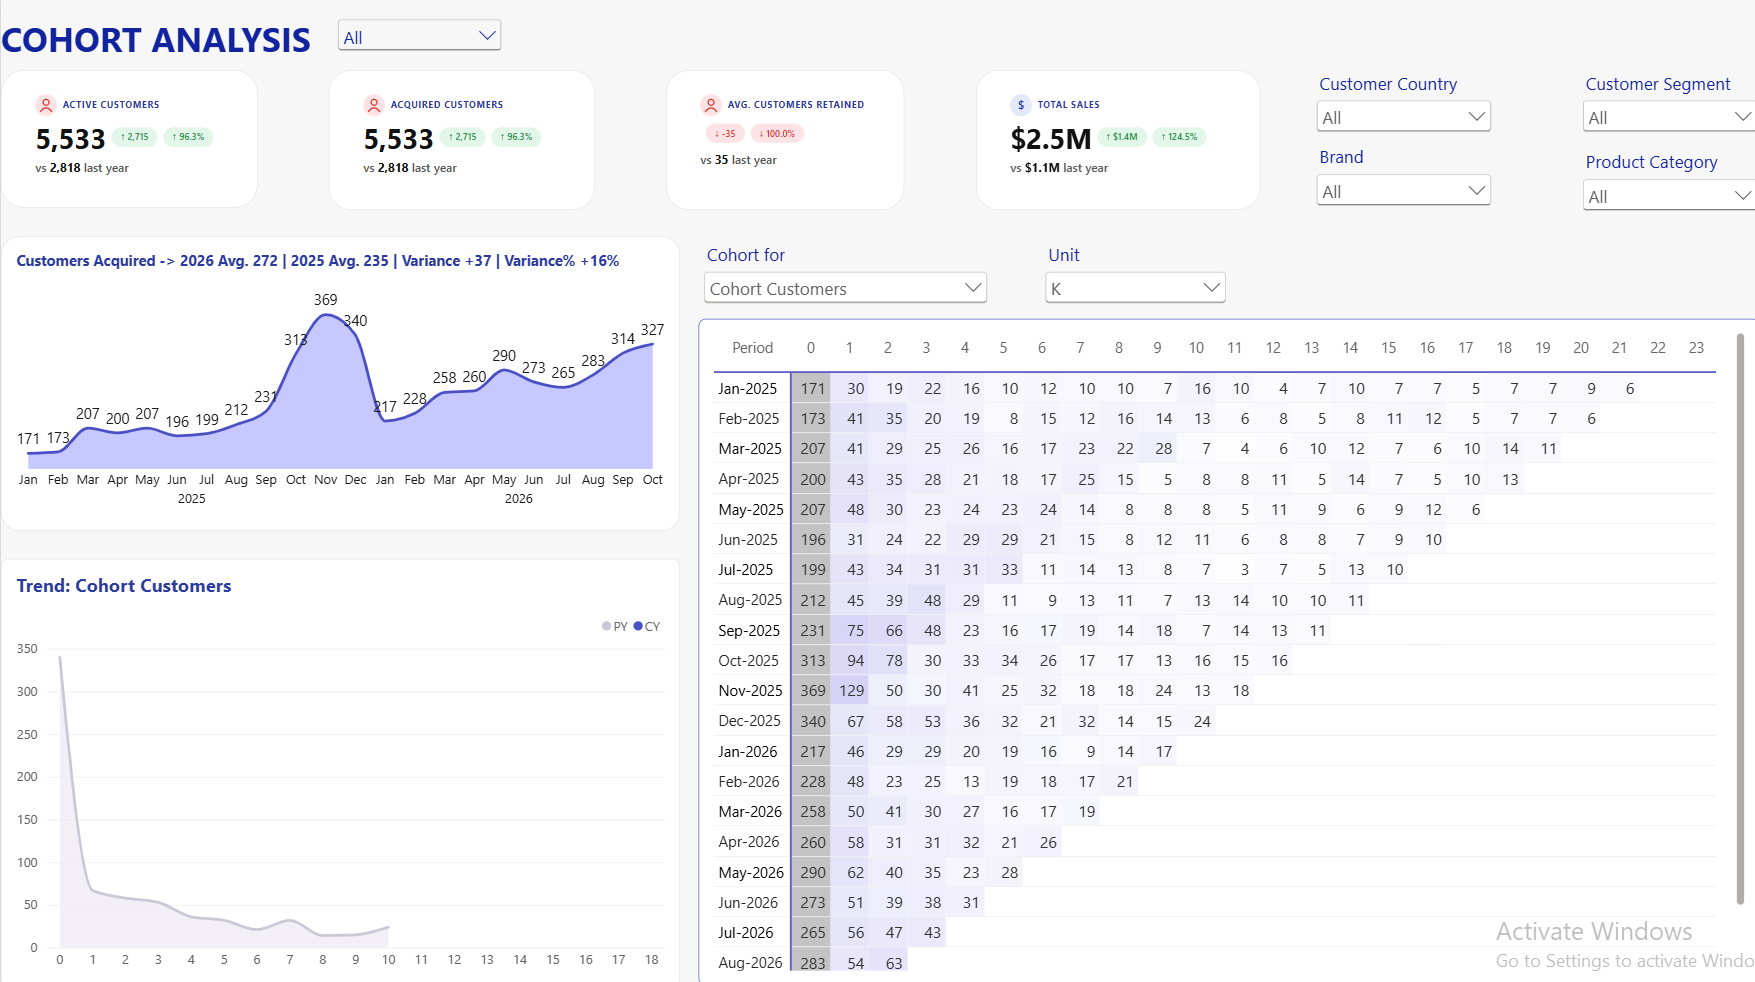

What the dashboard file says about the page in this screenshot:
{"tool":"powerbi","page":{"name":"Cohort Analysis","canvas":[1920,1080],"ordinal":0},"visuals":[{"type":"pivotTable","fields":{"Columns":["Month Index.Index"],"Rows":["Customers.Cohort Label"],"Values":["_Measures.Cohort Value"]},"box":[761.1,347.6,1158.6,728.3],"z":1000},{"type":"slicer","fields":{"Values":["Date.Month Label"]},"box":[363.2,16.8,188.1,61.5],"z":2000},{"type":"htmlContent443BE3AD55E043BF878BED274D3A6865","fields":{"content":["_Measures.KPI HTML Active Customers"]},"box":[0,76.4,280,150],"z":3000},{"type":"htmlContent443BE3AD55E043BF878BED274D3A6865","fields":{"content":["_Measures.KPI HTML Acquired Customers"]},"box":[357.9,76.4,290,153],"z":4000},{"type":"htmlContent443BE3AD55E043BF878BED274D3A6865","fields":{"content":["_Measures.KPI HTML Avg Customers Retained"]},"box":[725.7,76.4,260,153],"z":5000},{"type":"htmlContent443BE3AD55E043BF878BED274D3A6865","fields":{"content":["_Measures.KPI HTML Total Sales"]},"box":[1063.6,76.4,310,153],"z":6000},{"type":"slicer","fields":{"Values":["Customers.Country"]},"box":[1430.5,78.2,200,70],"z":7000},{"type":"slicer","fields":{"Values":["Customers.Customer Segment"]},"box":[1721.1,78.2,200,70],"z":8000},{"type":"slicer","fields":{"Values":["Products.Brand"]},"box":[1430.5,158.3,200,70],"z":9000},{"type":"slicer","fields":{"Values":["Products.Category"]},"box":[1721.1,163.9,200,70],"z":10000},{"type":"areaChart","fields":{"Category":["Date Axis.Year","Date Axis.Month"],"Y":["_Measures.Acquired Customers Axis"]},"box":[0,257.7,741.1,321.6],"z":11000},{"type":"stackedAreaChart","fields":{"Category":["Month Index.Index"],"Y":["_Measures.Cohort Value PY","_Measures.Cohort Value CY"]},"box":[0,609.2,741.1,469.4],"z":12000},{"type":"slicer","fields":{"Values":["Cohort For.Metric"]},"box":[761.8,264.5,318.5,85.7],"z":13000},{"type":"slicer","fields":{"Values":["Unit.Unit"]},"box":[1134.3,264.5,206.8,85.7],"z":14000},{"type":"textbox","box":[0,16,357.6,59],"z":15000}]}

Visuals, with their boxes in screenshot pixels (x1, y1, x2, y2), scaled from the page's 1920x1080 canvas onto the 1755x982 screenshot:
pivotTable - Month Index.Index x Customers.Cohort Label: left=696, top=316, right=1754, bottom=978
slicer - Date.Month Label: left=332, top=15, right=504, bottom=71
htmlContent443BE3AD55E043BF878BED274D3A6865 - _Measures.KPI HTML Active Customers: left=0, top=69, right=256, bottom=206
htmlContent443BE3AD55E043BF878BED274D3A6865 - _Measures.KPI HTML Acquired Customers: left=327, top=69, right=592, bottom=209
htmlContent443BE3AD55E043BF878BED274D3A6865 - _Measures.KPI HTML Avg Customers Retained: left=663, top=69, right=901, bottom=209
htmlContent443BE3AD55E043BF878BED274D3A6865 - _Measures.KPI HTML Total Sales: left=972, top=69, right=1256, bottom=209
slicer - Customers.Country: left=1308, top=71, right=1490, bottom=135
slicer - Customers.Customer Segment: left=1573, top=71, right=1754, bottom=135
slicer - Products.Brand: left=1308, top=144, right=1490, bottom=208
slicer - Products.Category: left=1573, top=149, right=1754, bottom=213
areaChart - Date Axis.Year x Date Axis.Month: left=0, top=234, right=677, bottom=527
stackedAreaChart - Month Index.Index x _Measures.Cohort Value PY: left=0, top=554, right=677, bottom=981
slicer - Cohort For.Metric: left=696, top=240, right=987, bottom=318
slicer - Unit.Unit: left=1037, top=240, right=1226, bottom=318
textbox: left=0, top=15, right=327, bottom=68
